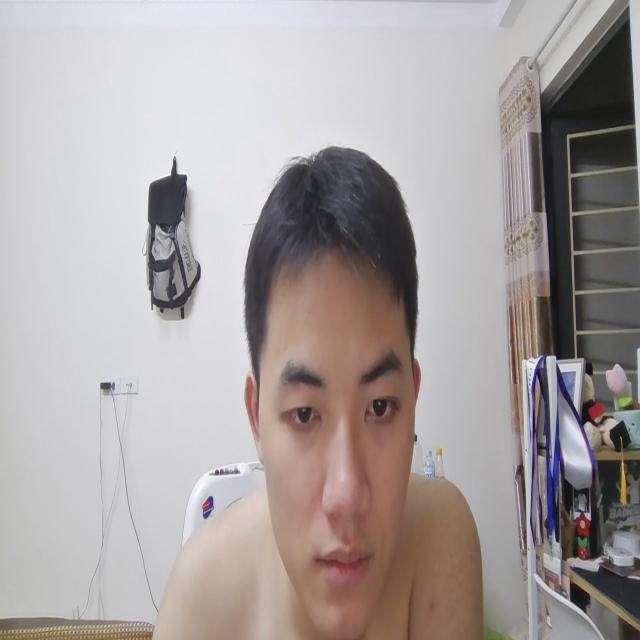student: (216, 130, 437, 640)
